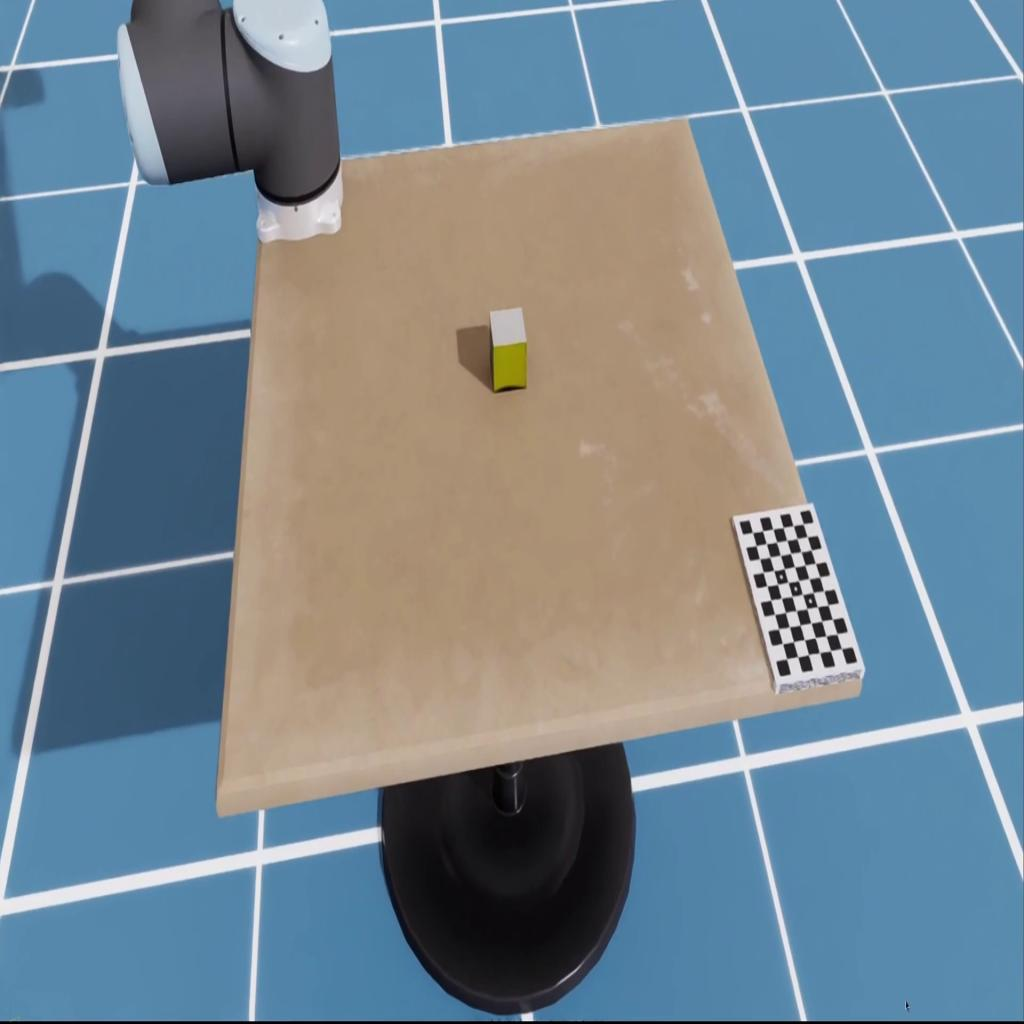Cube: (489, 306, 527, 392)
QR: (730, 500, 865, 696)
Robot: (117, 0, 344, 242)
Table: (216, 114, 861, 817)
